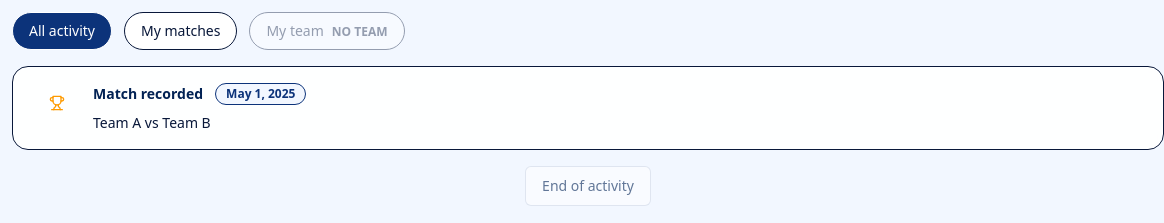
it: TimelineFeed › switches to 'My matches' filter when selected
Expected: the heading "Match recorded" is shown, [93,84,203,104]
Click the button "My matches": (181, 31) [124,12,238,50]
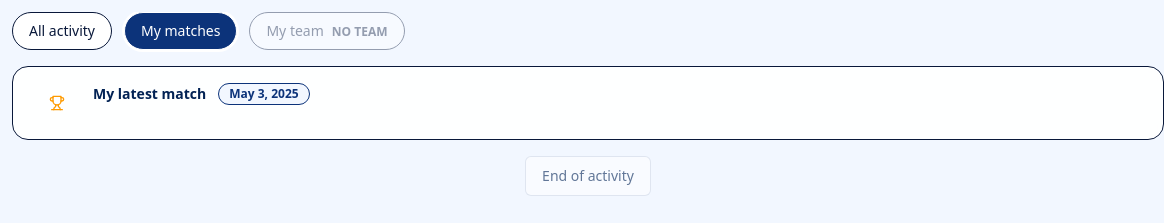
Expected: the heading "My latest match" is shown, [93,84,206,104]
